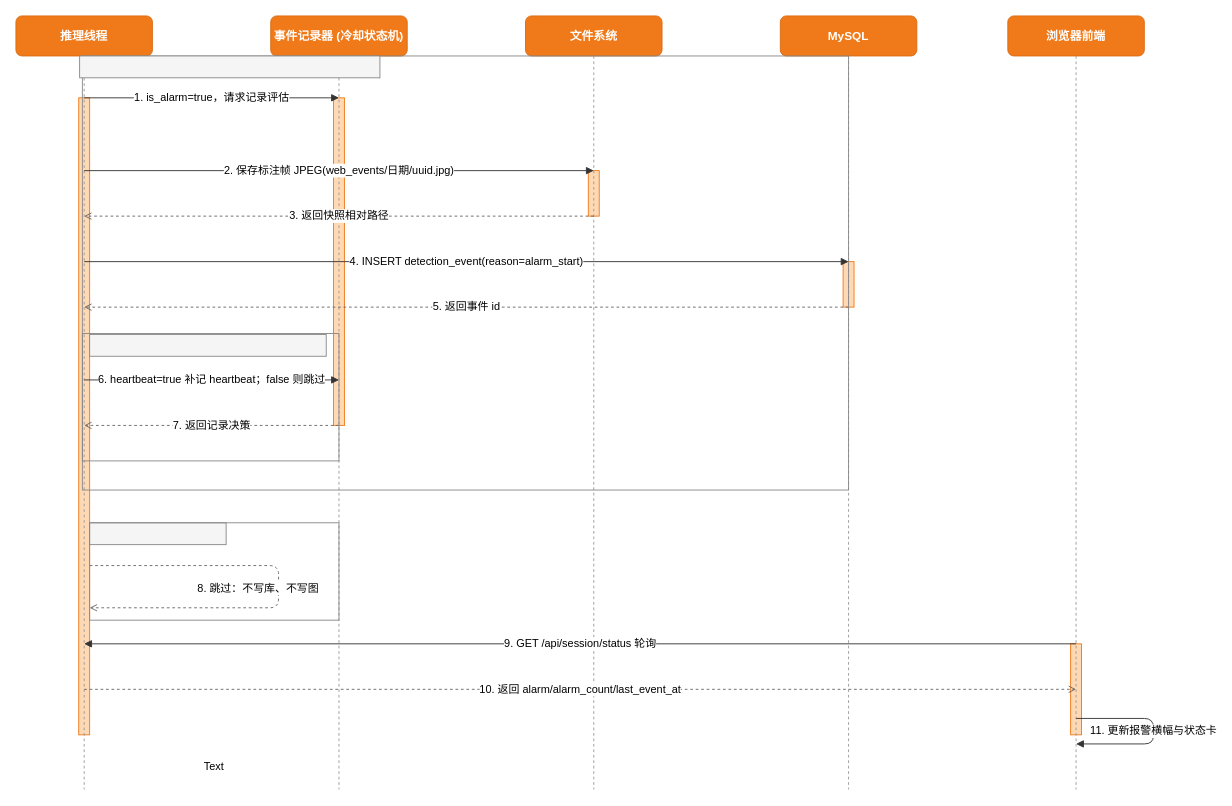
Image size: 1232x806. Some labels were removed from this diagram. Each missing label, with the box of its shape:
alt [ 不足冷却时间 ]: (89, 522, 226, 545)
alt [ 报警持续且到达冷却时间 ]: (89, 334, 326, 356)
alt [ 首次报警 或 距上次记录 ≥ 冷却(默认10s) ]: (79, 55, 380, 78)
